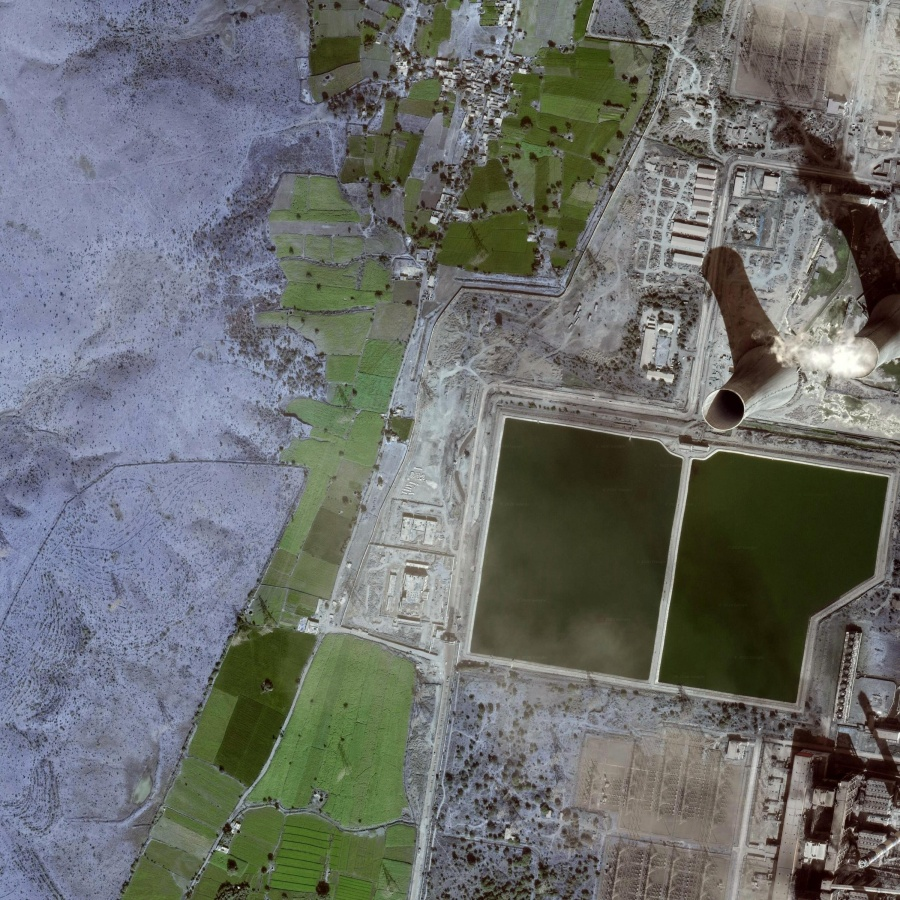PowerPlant: (457, 413, 896, 721)
